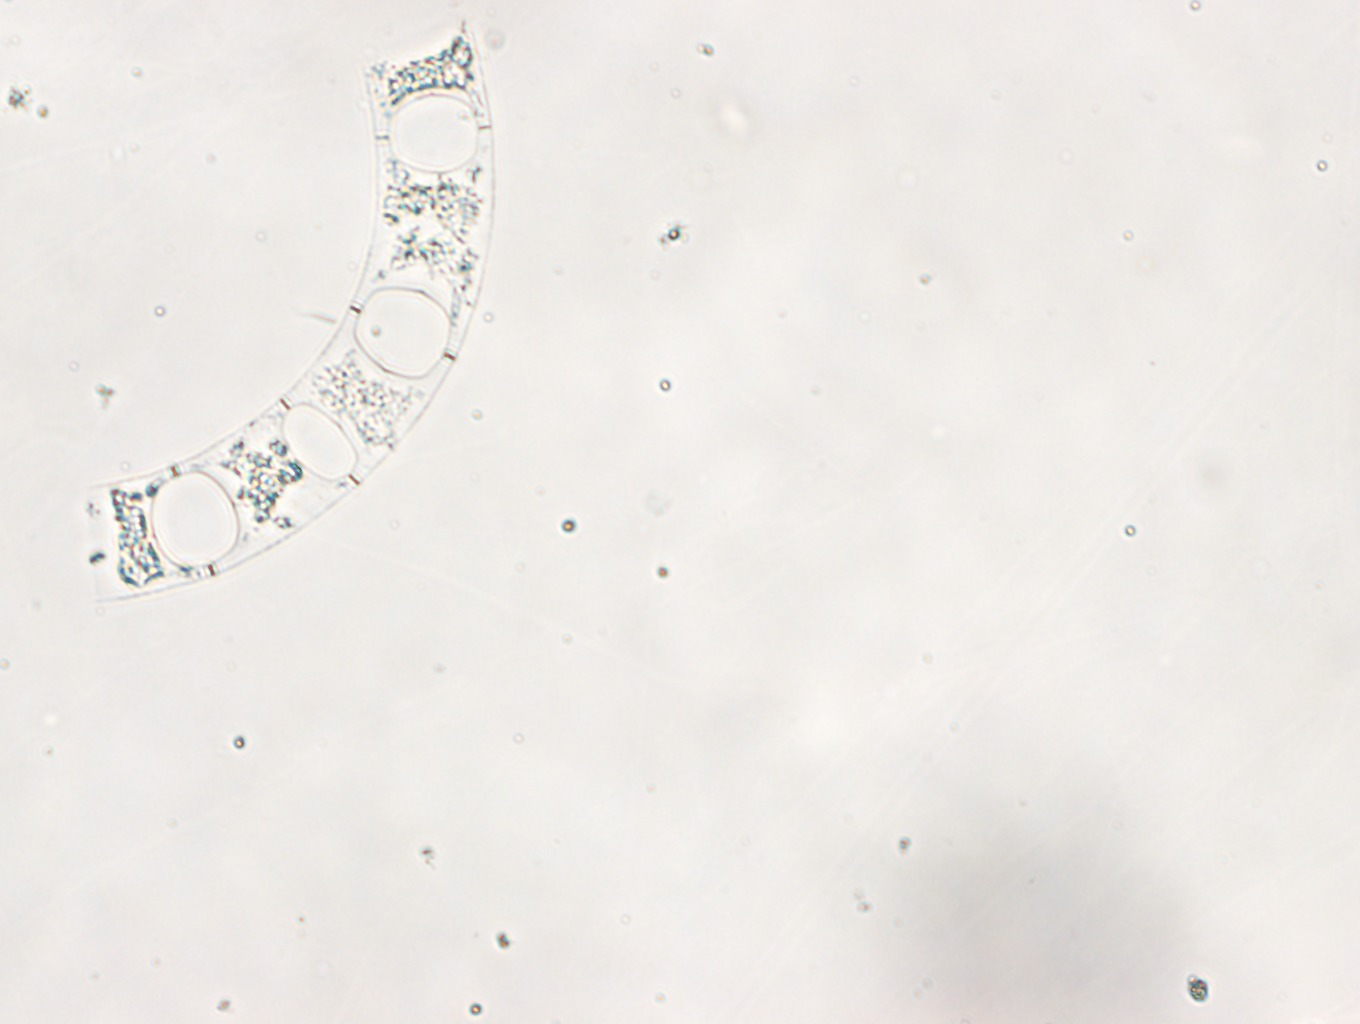eucampia: (63, 25, 497, 600)
